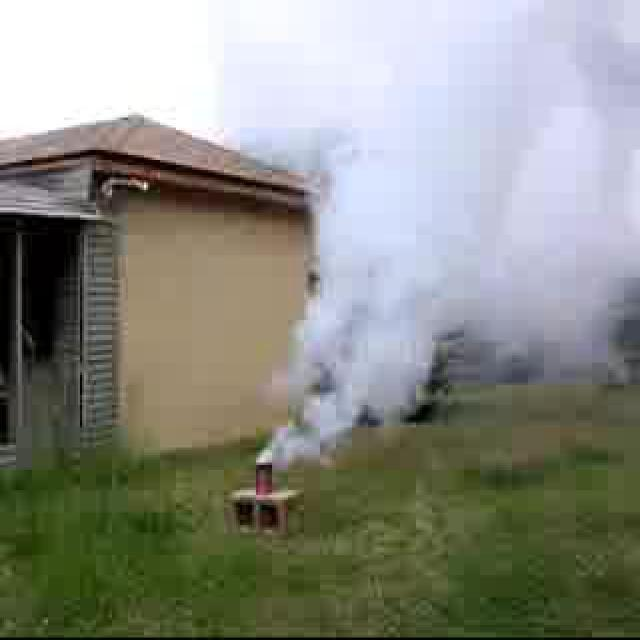Smoke: (312, 75, 629, 395)
